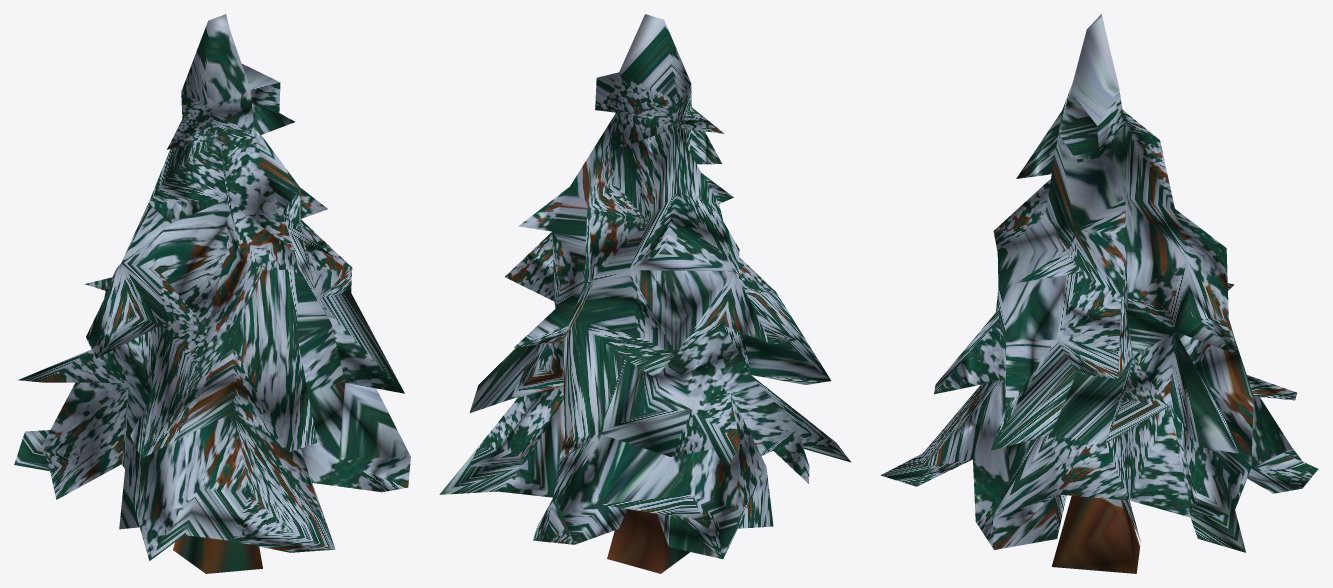
File: snow-pine-far-yLVtsCjR.glb
3 views of the same model, side by side, from view 1: azimuth 30°, elevation 25°; view 2: azimuth 150°, elevation 25°; view 3: azimuth 270°, elevation 25° (orthographic).
Parts seen in each view (by area): view 1: tripo_node_b74c1c27-19db-4b17-99a5-c97966e20664; view 2: tripo_node_b74c1c27-19db-4b17-99a5-c97966e20664; view 3: tripo_node_b74c1c27-19db-4b17-99a5-c97966e20664.
Part boxes in pixels (x1=…): tripo_node_b74c1c27-19db-4b17-99a5-c97966e20664: x1=14, y1=14, x2=410, y2=573; tripo_node_b74c1c27-19db-4b17-99a5-c97966e20664: x1=439, y1=14, x2=851, y2=573; tripo_node_b74c1c27-19db-4b17-99a5-c97966e20664: x1=881, y1=14, x2=1318, y2=573.
Bounding box in the file's own units: 0.5421 × 0.9842 × 0.7209.
1 material, 1 textured.
